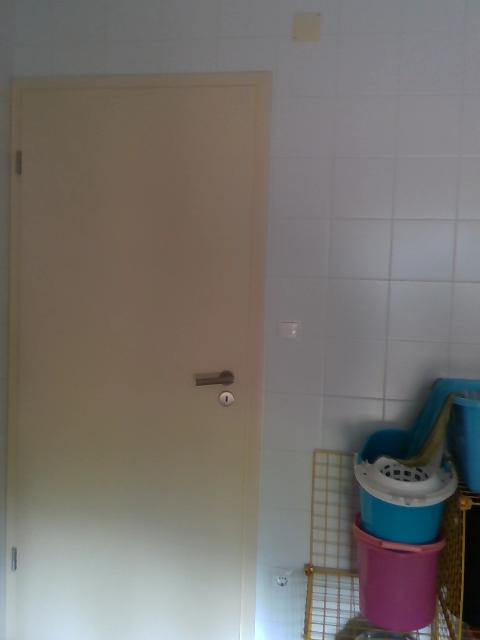door: (5, 70, 274, 636)
